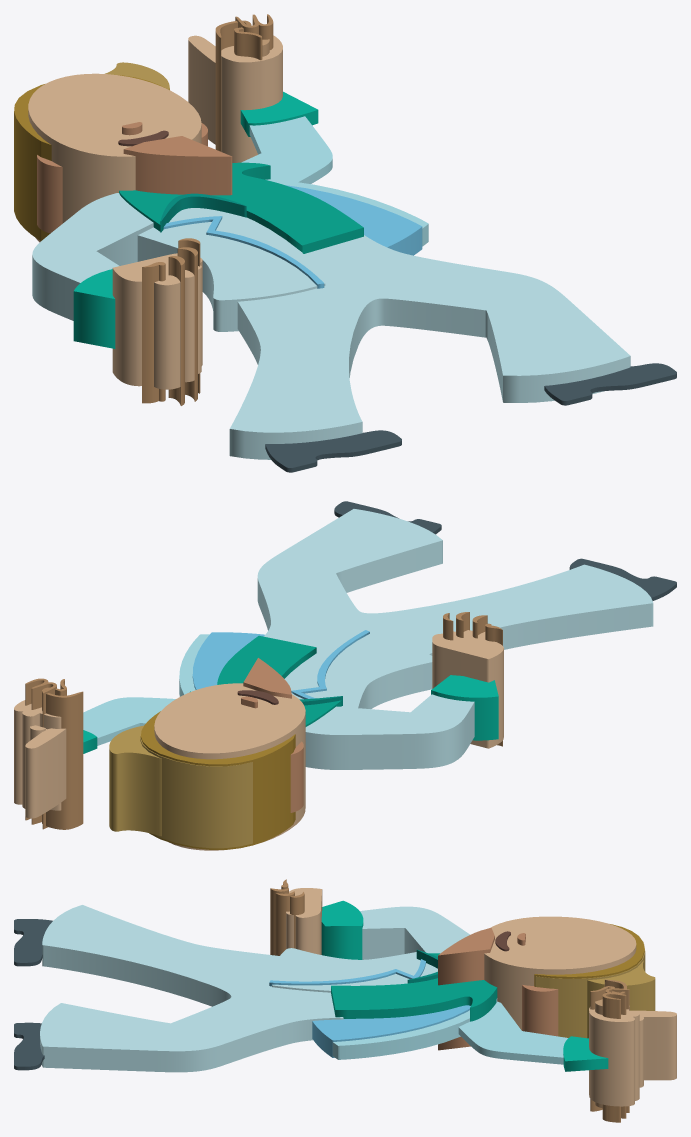
Rendered from emoji_u1f57a_1f3fc.glb.
The picture shows the model from 3 angles, top to bottom: view 1: azimuth 30°, elevation 25°; view 2: azimuth 150°, elevation 25°; view 3: azimuth 270°, elevation 25°; orthographic projection. The views are drawn at different scales.
Parts seen in each view (by area): view 1: emoji_u1f57a_1f3fc; view 2: emoji_u1f57a_1f3fc; view 3: emoji_u1f57a_1f3fc.
Boxes of the visible parts, left/top/right/bottom form: emoji_u1f57a_1f3fc: left=14, top=14, right=676, bottom=472; emoji_u1f57a_1f3fc: left=14, top=501, right=676, bottom=850; emoji_u1f57a_1f3fc: left=14, top=879, right=676, bottom=1122.
Size of the model in its own units: 0.0187 by 0.007 by 0.0342.
